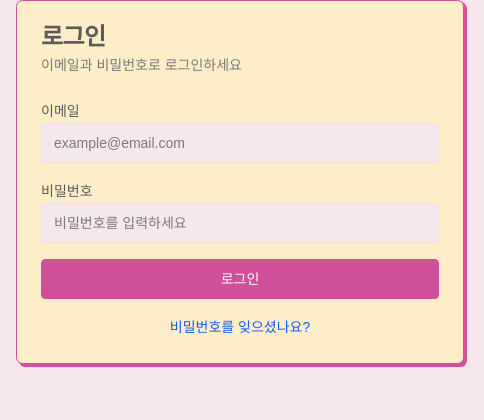
Test: LoginForm › 이메일 미인증 에러 메시지를 표시한다
Type "test@example.com" into the field labelled "이메일". click: (240, 143)
box: [41,123,439,163]
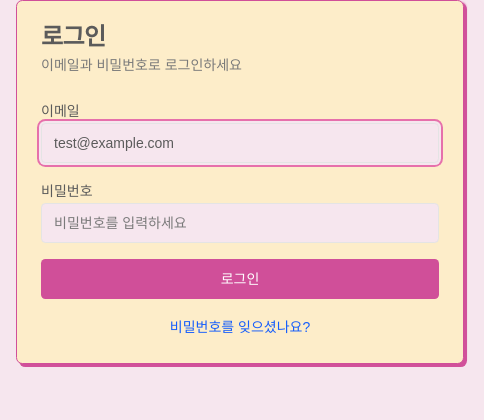
Type "password123" into the password field labelled "비밀번호". click: (240, 223)
box: [41,203,439,243]
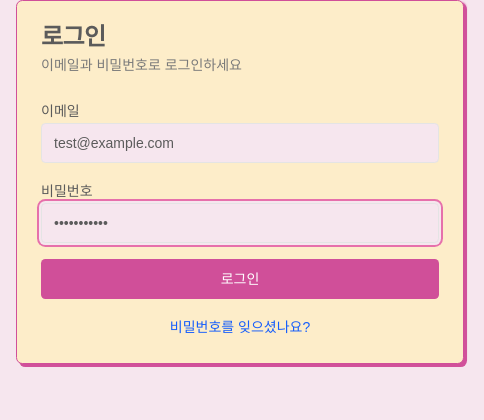
Click the button "로그인". click: (240, 279)
box: [41,259,439,299]
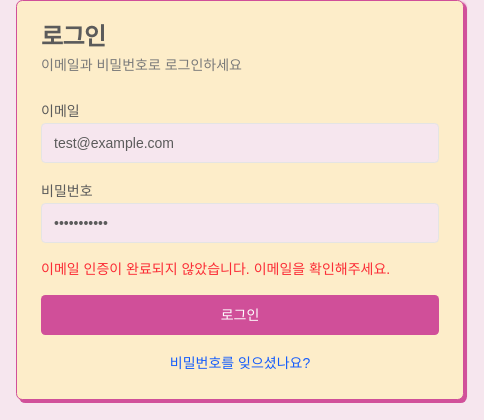
Check: the text "이메일 인증이 완료되지 않았습니다. 이메일을 확인해주세요." is shown, box [41,259,439,279]
